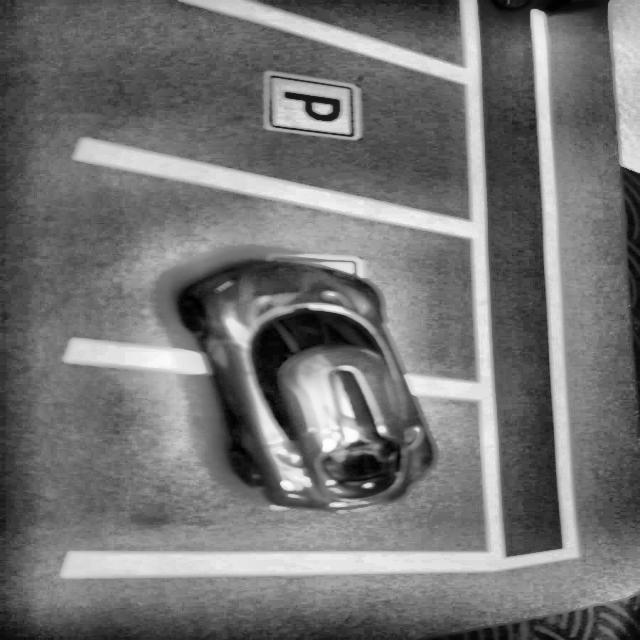car: (178, 258, 436, 513)
